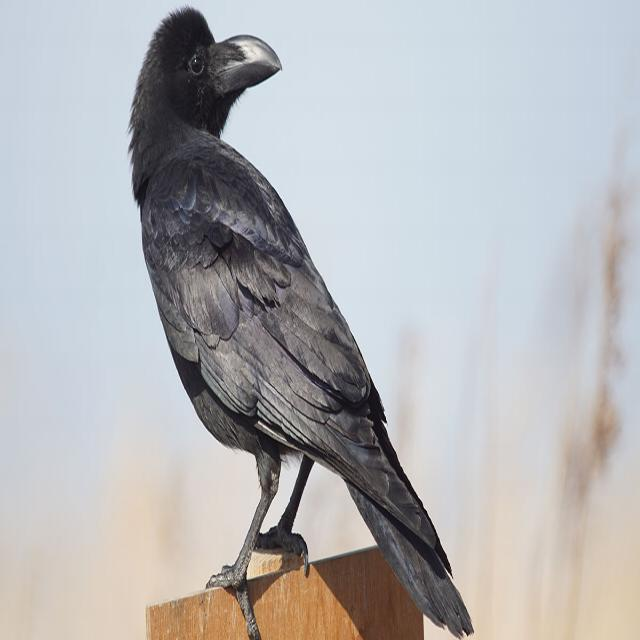crow: (104, 4, 475, 640)
